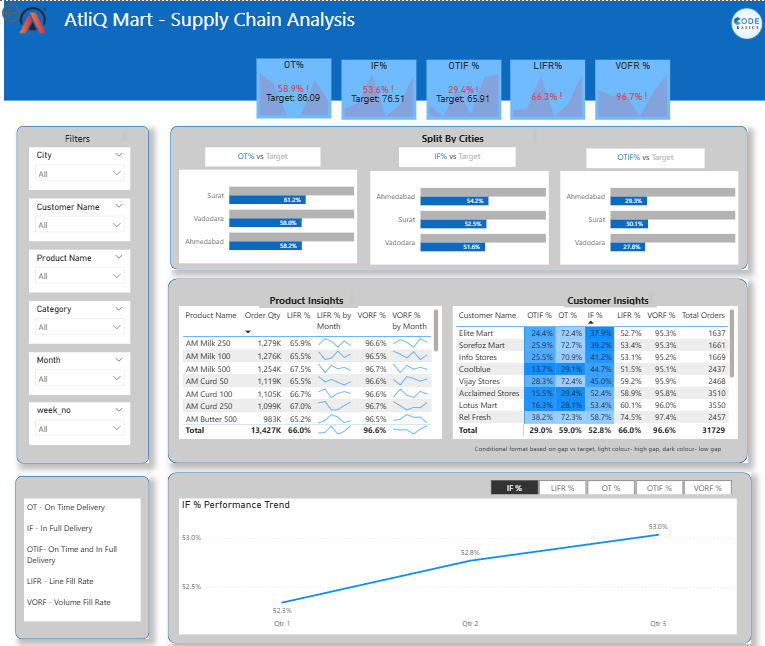

The dashboard page shown, as its layout file describes it:
{"tool":"powerbi","page":{"name":"Page 1","canvas":[1280,1080],"ordinal":0},"visuals":[{"type":"shape","box":[8.9,0,1271.1,165.8],"z":0},{"type":"shape","box":[285,208.5,962.2,239.3],"z":1000},{"type":"shape","box":[29.8,208.5,221.4,551.1],"z":2000},{"type":"shape","box":[281,467.7,966.2,294.9],"z":3000},{"type":"shape","box":[281,785.5,973.2,286],"z":4000},{"type":"actionButton","box":[0,0,100,40],"z":5000},{"type":"kpi","title":"IF%","fields":{"Indicator":["measures (2).In_Full_Order %"],"Goal":["measures (2).In_Full_Order_Target %"],"TrendLine":["dim_date.mmm_yy"]},"box":[570.8,97.3,125,100],"z":6000},{"type":"kpi","title":"OT%","fields":{"Indicator":["measures (2).On_Time_Orders %"],"Goal":["measures (2).On_Time_Order_Target %"],"TrendLine":["dim_date.mmm_yy"]},"box":[430,96.3,125.1,100.3],"z":7000},{"type":"kpi","title":"OTIF % ","fields":{"Indicator":["measures (2).OTIF %"],"Goal":["measures (2).OTIF_Target%"],"TrendLine":["dim_date.mmm_yy"]},"box":[711.6,97.3,125,100],"z":8000},{"type":"kpi","title":"LIFR%","fields":{"Indicator":["measures (2).Line_Fill_Rate%"],"Goal":["Sum(dim_targets_orders.infull_target%)"],"TrendLine":["dim_date.mmm_yy"]},"box":[852.3,97.3,125,100],"z":9000},{"type":"kpi","title":"VOFR %","fields":{"Indicator":["measures (2).Volume_Fill_Rate%"],"Goal":["measures (2).Total_Order_Qty"],"TrendLine":["dim_date.mmm_yy"]},"box":[993,97.3,125,100.3],"z":10000},{"type":"slicer","fields":{"Values":["dim_customers.city"]},"box":[49.7,243.3,168.8,71.5],"z":11000},{"type":"slicer","fields":{"Values":["dim_customers.customer_name"]},"box":[49.7,328.7,168.8,71.5],"z":12000},{"type":"clusteredBarChart","title":"OT% VS Target","fields":{"Category":["dim_customers.city"],"Y":["measures (2).On_Time_Order_Target %","measures (2).On_Time_Orders %"]},"box":[300.9,282,297,156],"z":13000},{"type":"textbox","box":[343.6,243.6,191.7,31.8],"z":14000,"group":"g1"},{"type":"tableEx","fields":{"Values":["dim_products.product_name","Sum(fact_order_lines.order_qty)","measures (2).Line_Fill_Rate%","SparklineData(measures (2).LIFR %_[dim_date.date.Variation.Date Hierarchy.Month])","measures (2).Volume_Fill_Rate%","SparklineData(measures (2).VORF %_[dim_date.date.Variation.Date Hierarchy.Month])"]},"box":[300.9,508.4,437.9,235.3],"z":14000},{"type":"clusteredBarChart","title":"IF% VS Target","fields":{"Category":["dim_customers.city"],"Y":["measures (2).In_Full_Order_Target %","measures (2).In_Full_Order %"]},"box":[617.7,282.9,297.9,156],"z":15000,"group":"g1"},{"type":"textbox","box":[432,477.6,157.9,30.8],"z":15000},{"type":"textbox","box":[666.3,243.6,194.6,32.8],"z":16000,"group":"g1"},{"type":"pivotTable","fields":{"Rows":["dim_customers.customer_name"],"Values":["measures (2).OTIF %","measures (2).OT %","measures (2).IF %","measures (2).LIFR %","measures (2).VORF %","measures (2).Total Orders"]},"box":[755.7,508.4,474.7,235.3],"z":16000},{"type":"clusteredBarChart","title":"IF% VS Target","fields":{"Category":["dim_customers.city"],"Y":["measures (2).OTIF_Target%","measures (2).OTIF %"]},"box":[935.9,283.7,296.9,155.9],"z":17000,"group":"g1"},{"type":"textbox","box":[942.4,477.6,153.9,30.8],"z":17000},{"type":"textbox","box":[979.5,245,196.6,32.8],"z":18000,"group":"g1"},{"type":"lineChart","fields":{"Category":["dim_date.date.Variation.Date Hierarchy.Quarter"],"Y":["measures (2).Selected KPI"],"Series":["KPI Table.Metric"]},"box":[300.9,829.2,929.5,226.4],"z":18000},{"type":"slicer","fields":{"Values":["KPI Table.Metric"]},"box":[794.4,791.4,450.8,30.8],"z":19000},{"type":"slicer","fields":{"Values":["dim_products.product_name"]},"box":[49.7,414.1,168.8,71],"z":20000},{"type":"group","id":"g1","title":"Group 1","box":[343.6,243.6,889.2,196],"z":21000},{"type":"textbox","box":[100.3,2,502.5,59.6],"z":22000},{"type":"textbox","box":[49.7,211.5,168.8,28.8],"z":23000},{"type":"slicer","fields":{"Values":["dim_date.mmm_yy.Variation.Date Hierarchy.Month"]},"box":[49.7,584.4,168.8,71],"z":24000},{"type":"slicer","fields":{"Values":["dim_date.week_no"]},"box":[49.7,669.3,168.8,71],"z":25000},{"type":"image","box":[29.8,2,55.6,59.6],"z":26000},{"type":"image","box":[1211.5,2,68.5,70.5],"z":27000},{"type":"shape","box":[27.8,791.4,223.4,272.1],"z":28000},{"type":"textbox","box":[42.7,829.2,194.6,204.6],"z":29000},{"type":"textbox","box":[617.7,211.5,286,28.8],"z":30000},{"type":"slicer","fields":{"Values":["dim_products.category"]},"box":[49.7,499,168.8,71.5],"z":31000}]}

Visuals, with their boxes in screenshot pixels (x1, y1, x2, y2), scaled from the page's 1280x1080 canvas onto the 765x646 screenshot:
shape: crop(5, 0, 764, 99)
shape: crop(170, 125, 745, 268)
shape: crop(18, 125, 150, 454)
shape: crop(168, 280, 745, 456)
shape: crop(168, 470, 750, 641)
actionButton: crop(0, 0, 60, 24)
"IF%" kpi: crop(341, 58, 416, 118)
"OT%" kpi: crop(257, 58, 332, 118)
"OTIF % " kpi: crop(425, 58, 500, 118)
"LIFR%" kpi: crop(509, 58, 584, 118)
"VOFR %" kpi: crop(593, 58, 668, 118)
slicer - dim_customers.city: crop(30, 146, 131, 188)
slicer - dim_customers.customer_name: crop(30, 197, 131, 239)
"OT% VS Target" clusteredBarChart: crop(180, 169, 357, 262)
textbox: crop(205, 146, 320, 165)
tableEx - dim_products.product_name x Sum(fact_order_lines.order_qty): crop(180, 304, 442, 445)
"IF% VS Target" clusteredBarChart: crop(369, 169, 547, 263)
textbox: crop(258, 286, 353, 304)
textbox: crop(398, 146, 515, 165)
pivotTable - dim_customers.customer_name x measures (2).OTIF %: crop(452, 304, 735, 445)
"IF% VS Target" clusteredBarChart: crop(559, 170, 737, 263)
textbox: crop(563, 286, 655, 304)
textbox: crop(585, 147, 703, 166)
lineChart - dim_date.date.Variation.Date Hierarchy.Quarter x measures (2).Selected KPI: crop(180, 496, 735, 631)
slicer - KPI Table.Metric: crop(475, 473, 744, 492)
slicer - dim_products.product_name: crop(30, 248, 131, 290)
"Group 1" group: crop(205, 146, 737, 263)
textbox: crop(60, 1, 360, 37)
textbox: crop(30, 127, 131, 144)
slicer - dim_date.mmm_yy.Variation.Date Hierarchy.Month: crop(30, 350, 131, 392)
slicer - dim_date.week_no: crop(30, 400, 131, 443)
image: crop(18, 1, 51, 37)
image: crop(724, 1, 764, 43)
shape: crop(17, 473, 150, 636)
textbox: crop(26, 496, 142, 618)
textbox: crop(369, 127, 540, 144)
slicer - dim_products.category: crop(30, 298, 131, 341)
